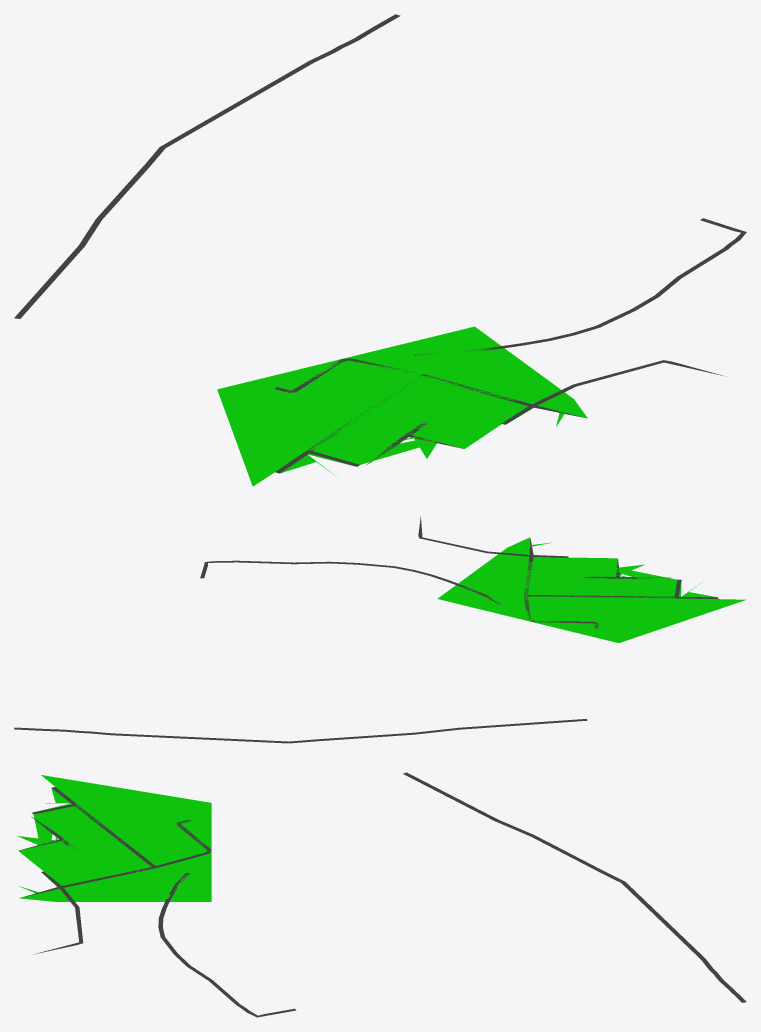
The picture shows the model from 3 angles, top to bottom: view 1: azimuth 30°, elevation 25°; view 2: azimuth 150°, elevation 25°; view 3: azimuth 270°, elevation 25°; orthographic projection. The views are drawn at different scales.
Size of the model in its own units: 446 by 0 by 563.
